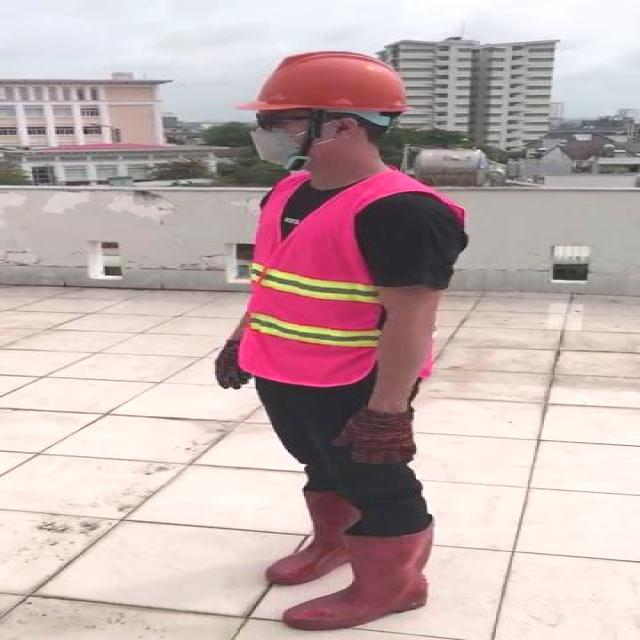boots: (283, 515, 437, 630), (265, 484, 361, 584)
face_mask: (243, 108, 312, 160)
hand_glove: (334, 408, 420, 466), (211, 343, 249, 392)
head_helmet: (238, 48, 416, 115)
person: (175, 45, 479, 640)
vest: (237, 173, 439, 386)
